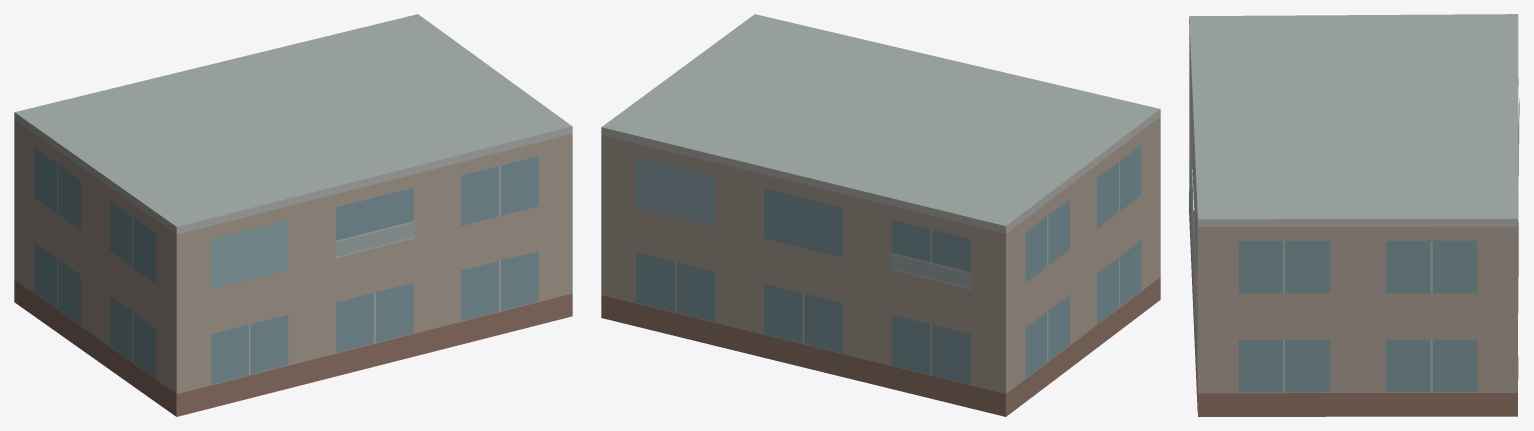
Rendered from survey-upis-32659123.glb.
The picture shows the model from 3 angles, left to right: view 1: azimuth 30°, elevation 25°; view 2: azimuth 150°, elevation 25°; view 3: azimuth 270°, elevation 25°; orthographic projection. The views are drawn at different scales.
Parts seen in each view (by area): view 1: survey-upis-32659123.tmp; view 2: survey-upis-32659123.tmp; view 3: survey-upis-32659123.tmp.
Part boxes in pixels (<box>): survey-upis-32659123.tmp: <box>14,14,572,416</box>; survey-upis-32659123.tmp: <box>601,14,1160,416</box>; survey-upis-32659123.tmp: <box>1189,14,1519,416</box>.
Bounding box in the file's own units: 13.59 × 6.1 × 9.25.
